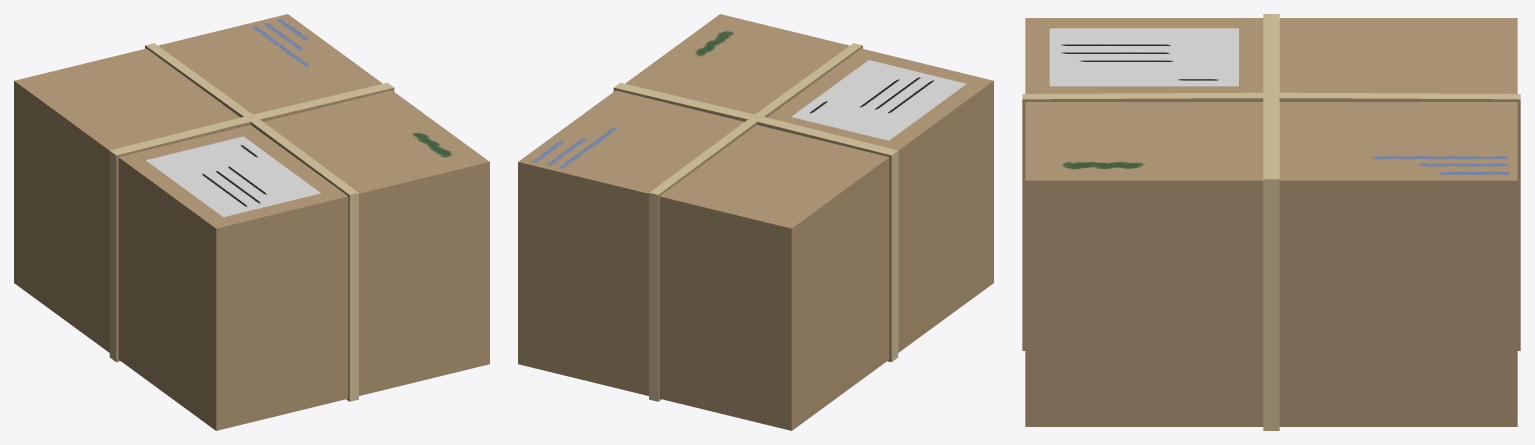
The model's file is cardboard_box.fbx.
3 views of the same model, side by side, from view 1: azimuth 30°, elevation 25°; view 2: azimuth 150°, elevation 25°; view 3: azimuth 270°, elevation 25° (orthographic). The views are drawn at different scales.
Visible parts, largest first — view 1: Cardboard Box; view 2: Cardboard Box; view 3: Cardboard Box.
Part boxes in pixels (<box>): Cardboard Box: <box>14,14,489,430</box>; Cardboard Box: <box>518,14,993,430</box>; Cardboard Box: <box>1022,14,1520,430</box>.
Bounding box in the file's own units: 174 × 125 × 222.
Materials: 1 (1 with a texture image).
